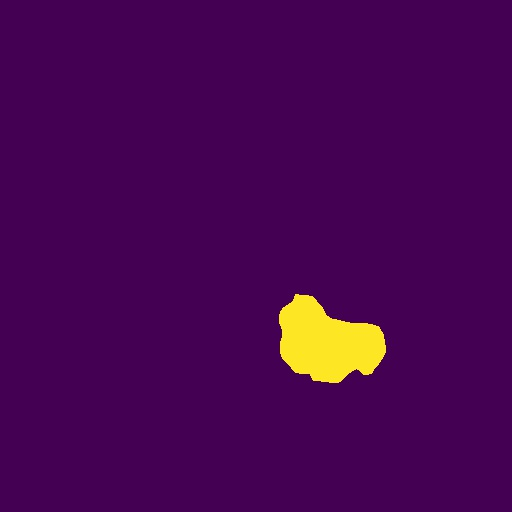Menigiomia_tumour: (279, 294, 386, 383)
